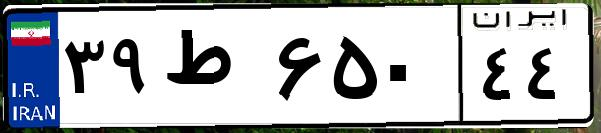0: (385, 28, 445, 110)
3: (57, 26, 110, 100)
4: (475, 38, 525, 113), (525, 38, 570, 115)
5: (330, 28, 385, 110)
6: (270, 28, 330, 110)
9: (110, 28, 158, 98)
ط: (158, 20, 270, 120)
